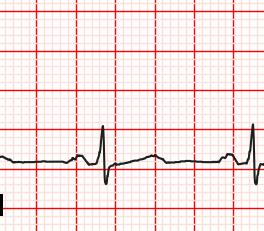ST Depression: (86, 157, 124, 186)
